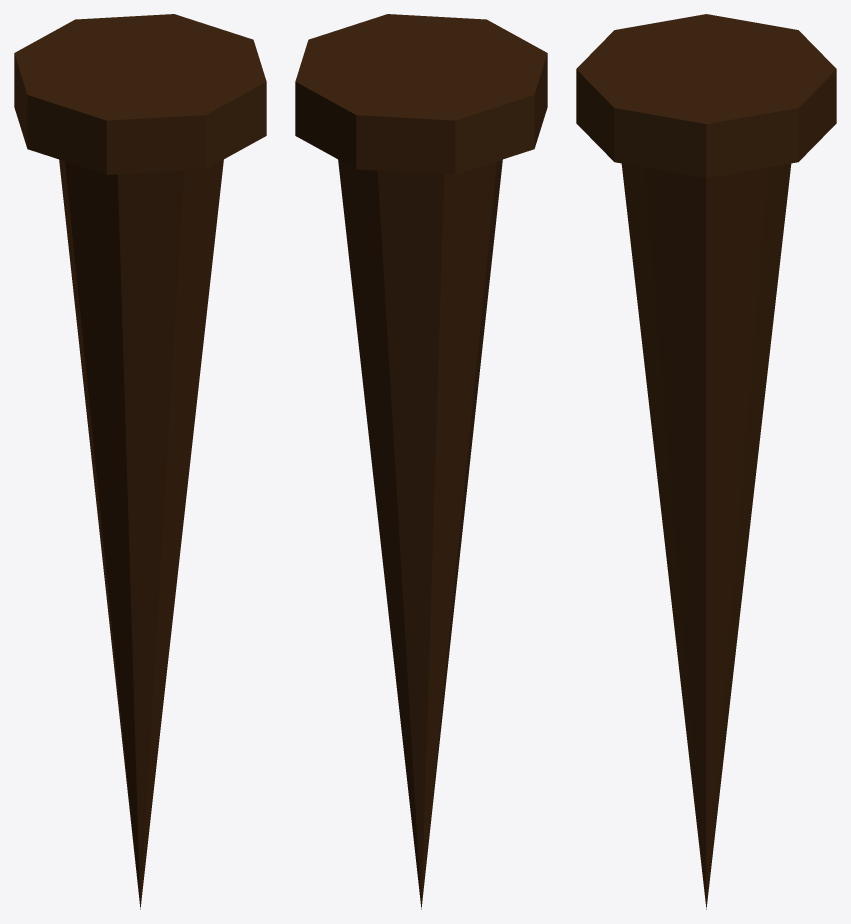
Rendered from Stake.fbx.
The picture shows the model from 3 angles, left to right: view 1: azimuth 30°, elevation 25°; view 2: azimuth 150°, elevation 25°; view 3: azimuth 270°, elevation 25°; orthographic projection.
Visible parts, largest first — view 1: TentStake; view 2: TentStake; view 3: TentStake.
Part boxes in pixels (x1,y1,x2,y2): TentStake: (14,14,266,909); TentStake: (295,14,547,909); TentStake: (576,14,836,909).
Bounding box in the file's own units: 28.83 × 103 × 28.83.
